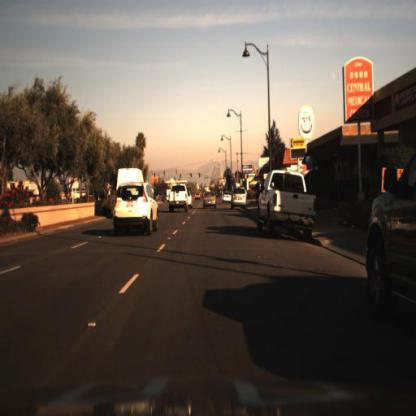car: (364, 149, 416, 332), (253, 168, 321, 243), (114, 181, 160, 242), (167, 184, 194, 215), (231, 187, 249, 215), (203, 192, 220, 211)
